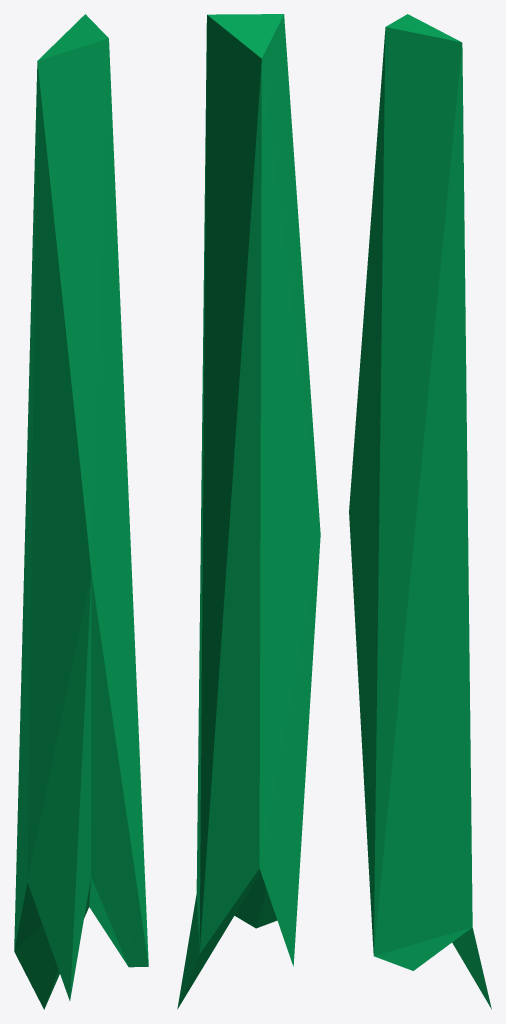
The model's file is SeguaroCactusMedium1_LOD3.fbx.
3 renders of one model, left to right at view 1: azimuth 90°, elevation 25°; view 2: azimuth 150°, elevation 25°; view 3: azimuth 330°, elevation 25°, orthographic. The views are drawn at different scales.
Parts seen in each view (by area): view 1: SeguaroCactusMedium1_LOD3; view 2: SeguaroCactusMedium1_LOD3; view 3: SeguaroCactusMedium1_LOD3.
Part boxes in pixels (left/top/right/bottom): SeguaroCactusMedium1_LOD3: left=14, top=14, right=148, bottom=1009; SeguaroCactusMedium1_LOD3: left=177, top=14, right=320, bottom=1009; SeguaroCactusMedium1_LOD3: left=349, top=14, right=491, bottom=1009.
Bounding box in the file's own units: 28.1 × 232 × 30.15.
